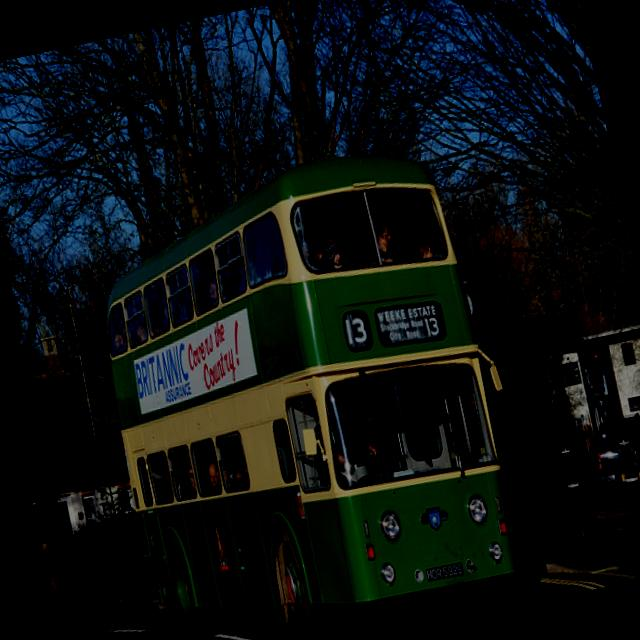Vehicle: (70, 134, 545, 640), (584, 409, 640, 512), (586, 436, 604, 470)
